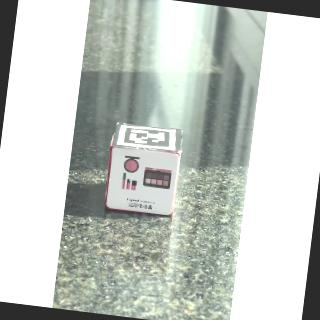Expired_Cosmetic: (105, 146, 182, 220)
